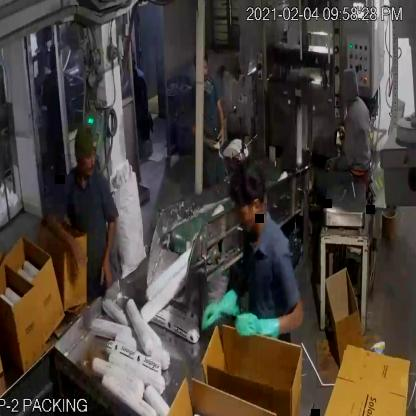glove: (232, 304, 313, 348), (199, 282, 250, 338)
no_glove: (44, 202, 89, 289), (98, 206, 119, 287), (190, 120, 217, 161), (213, 93, 229, 158)
